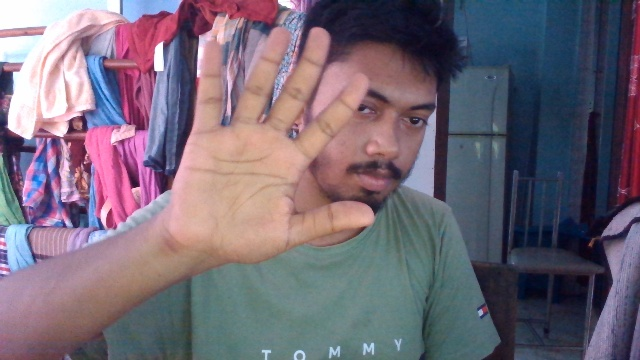hello: (172, 21, 376, 272)
